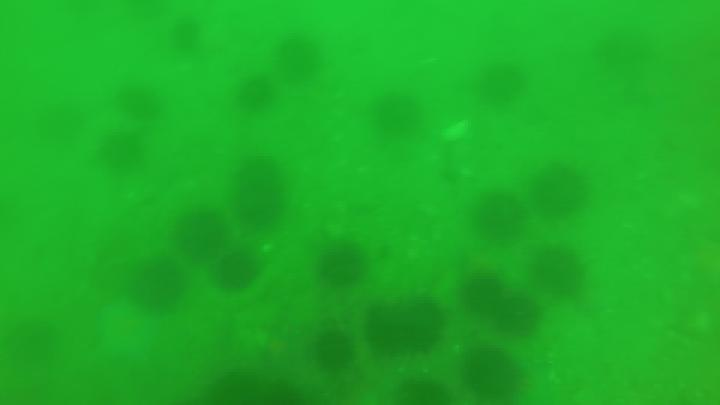echinus: (232, 155, 287, 234), (363, 300, 445, 349), (175, 207, 228, 266), (531, 251, 590, 301), (465, 347, 526, 394), (533, 165, 588, 214), (113, 80, 170, 126), (136, 261, 189, 309), (313, 250, 369, 289), (385, 97, 432, 143), (274, 35, 322, 80), (216, 247, 260, 293), (479, 193, 524, 237), (102, 130, 147, 172), (475, 68, 525, 104), (311, 324, 352, 366), (466, 272, 503, 314), (497, 303, 547, 332), (168, 21, 203, 50), (241, 82, 275, 111)
starfish: (93, 304, 178, 361)
